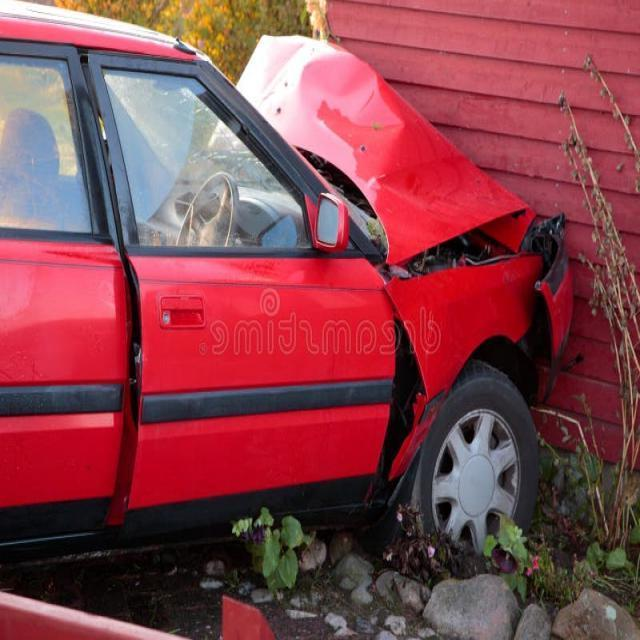accident: (0, 1, 580, 580)
